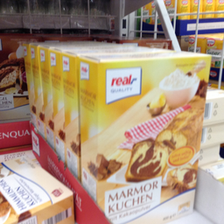cake: (81, 56, 216, 223)
